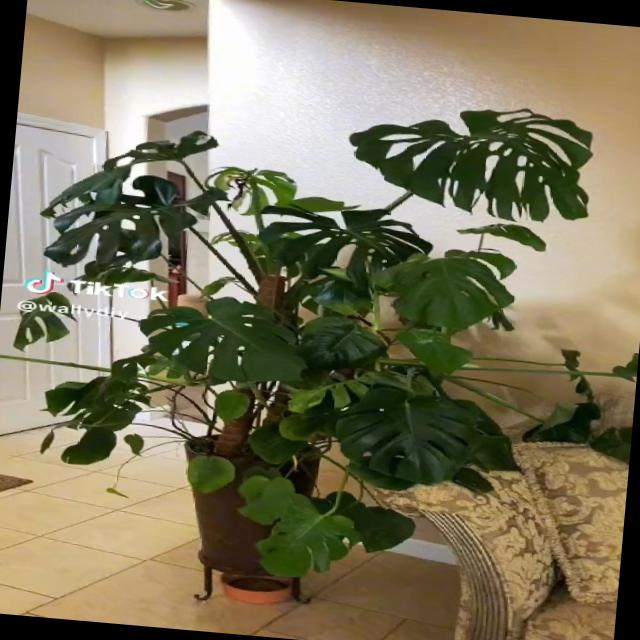roslina_zdrowa: (39, 105, 595, 576)
